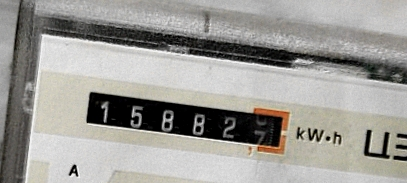1: (96, 97, 112, 125)
2: (219, 114, 239, 141)
5: (127, 102, 144, 130)
7: (250, 127, 267, 146)
8: (158, 107, 177, 133), (190, 111, 208, 138)
screen: (74, 79, 298, 164)
